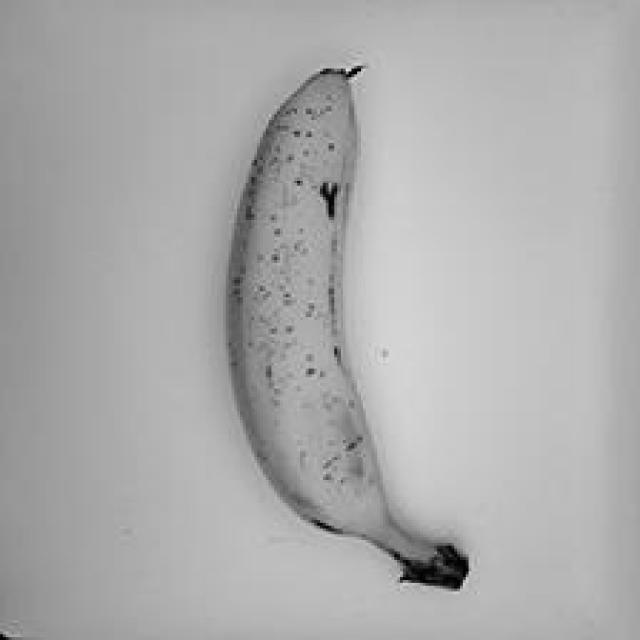Overripe: (200, 36, 481, 604)
